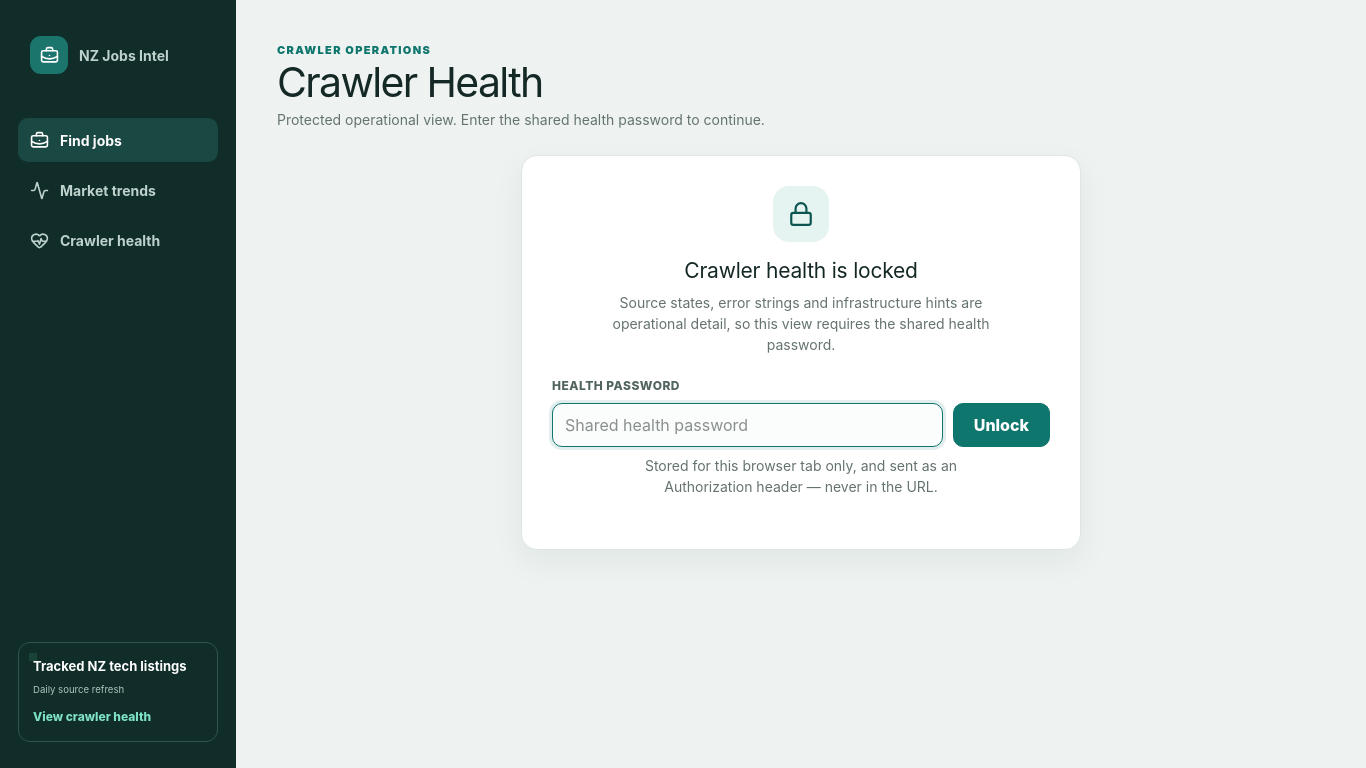
Test: HealthPage password gate › unlocks and renders health on the correct password, storing it in sessionStorage only
The image size is (1366, 768).
Type "letmein" into the password field labelled "Health password" at x=747, y=425, box [552,403,943,447]
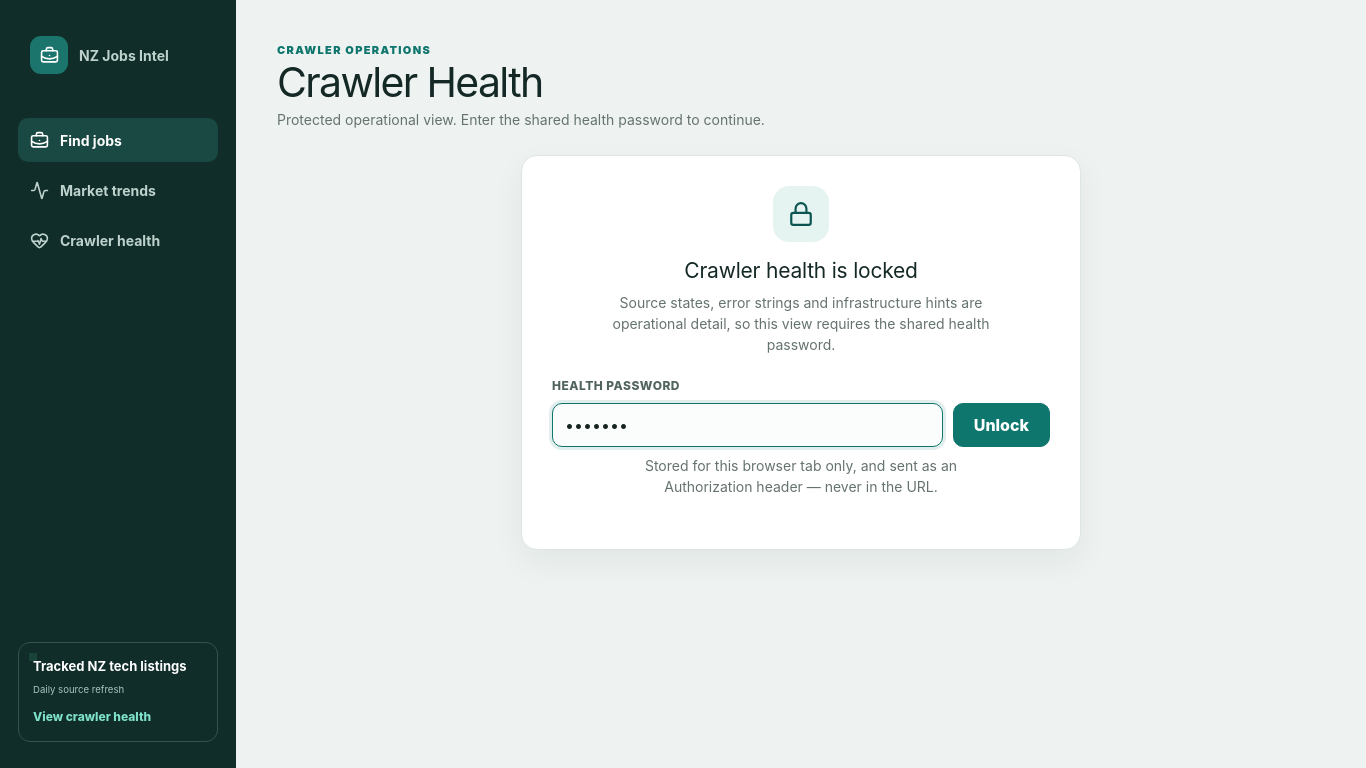
Click the button "Unlock" at x=1001, y=425, box [953,403,1050,447]
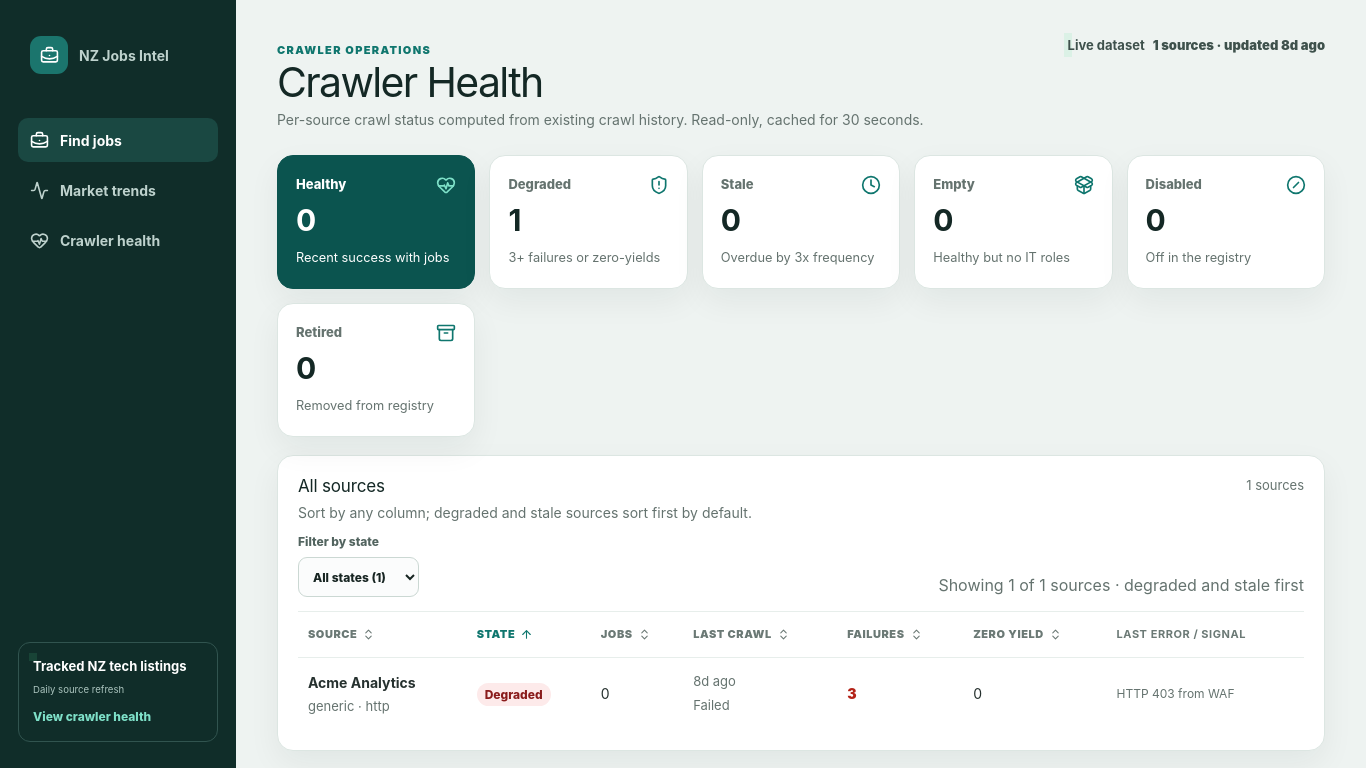
Check: the text "Acme Analytics" is shown, box [308,674,416,691]
Check: the heading "All sources" is shown, box [298,476,385,496]
